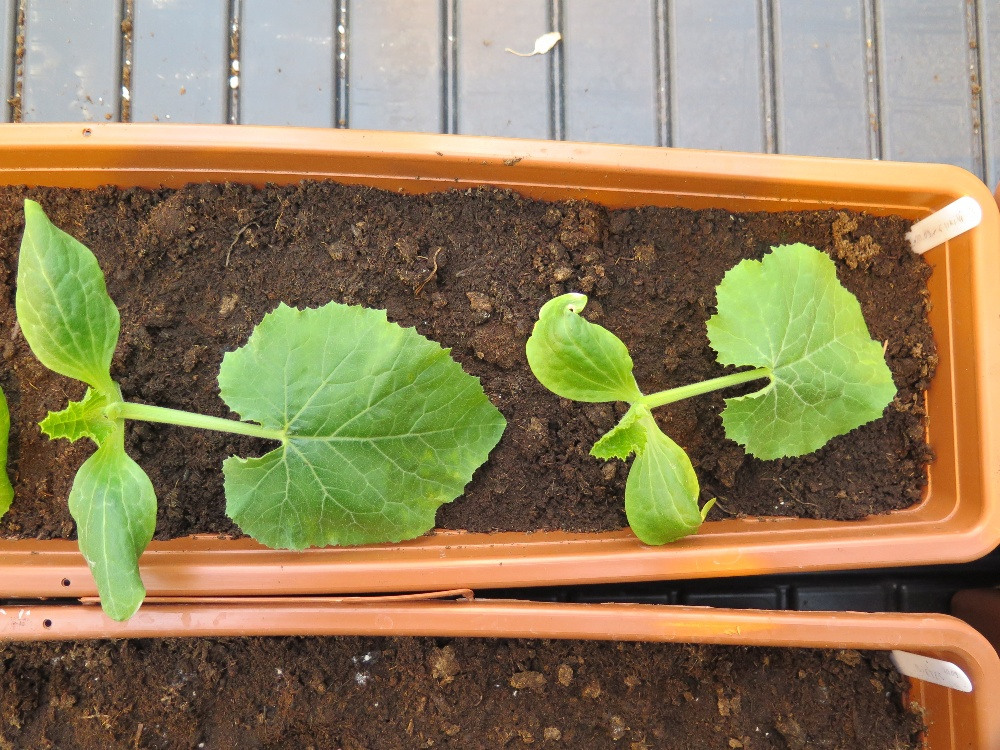crop: (14, 195, 508, 625), (523, 242, 903, 549)
